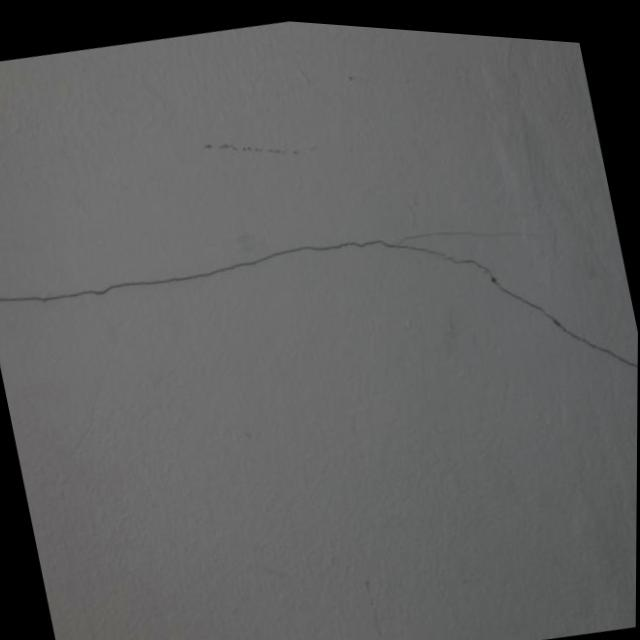Crack: (0, 149, 639, 535)
